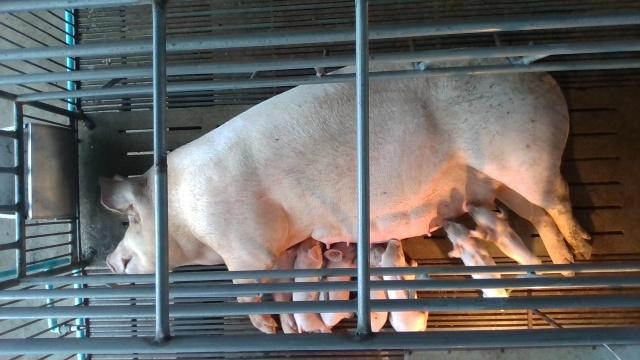piglet: (441, 219, 512, 311), (466, 205, 542, 274), (382, 239, 429, 332), (287, 237, 332, 334), (319, 242, 355, 328), (370, 245, 389, 333)
sow-sleep-lactate: (99, 47, 592, 335)
